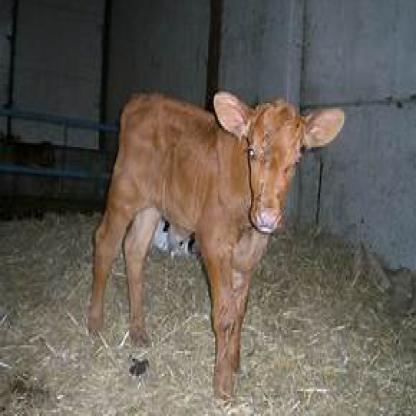cow: (86, 86, 344, 412)
